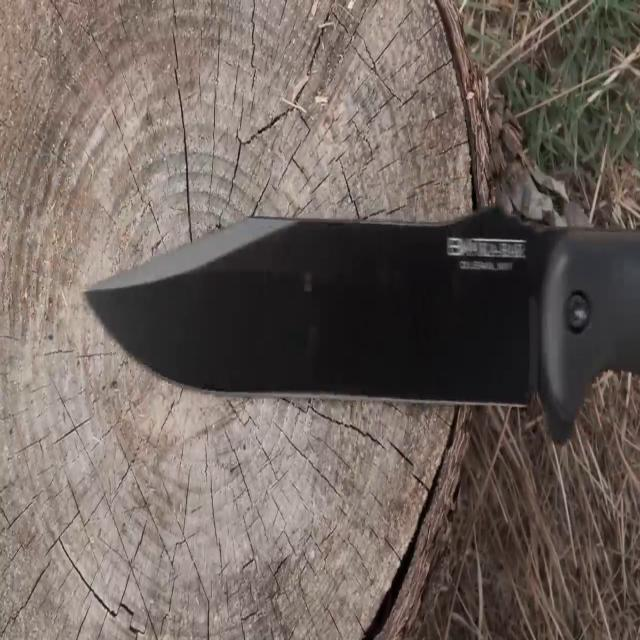Knife: (79, 187, 639, 456)
